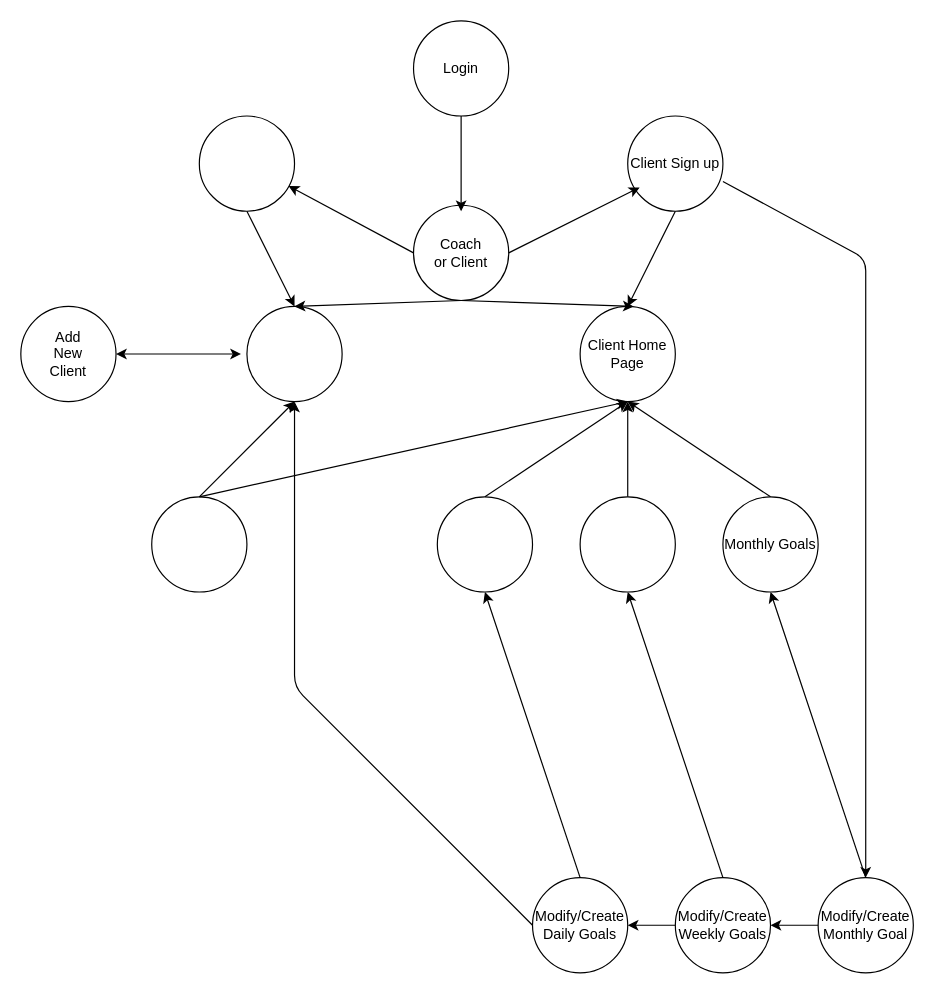
The diagram is 934 pixels wide and 994 high, and some of its shapes have lost their labels. The centre of each missing label's shape, as x and y in pixels:
"Appointments" goes at point (199, 544).
"Coach Home page" goes at point (294, 353).
"Coach Sign up" goes at point (246, 163).
"Daily Goals" goes at point (484, 544).
"Weekly Goals" goes at point (627, 544).
